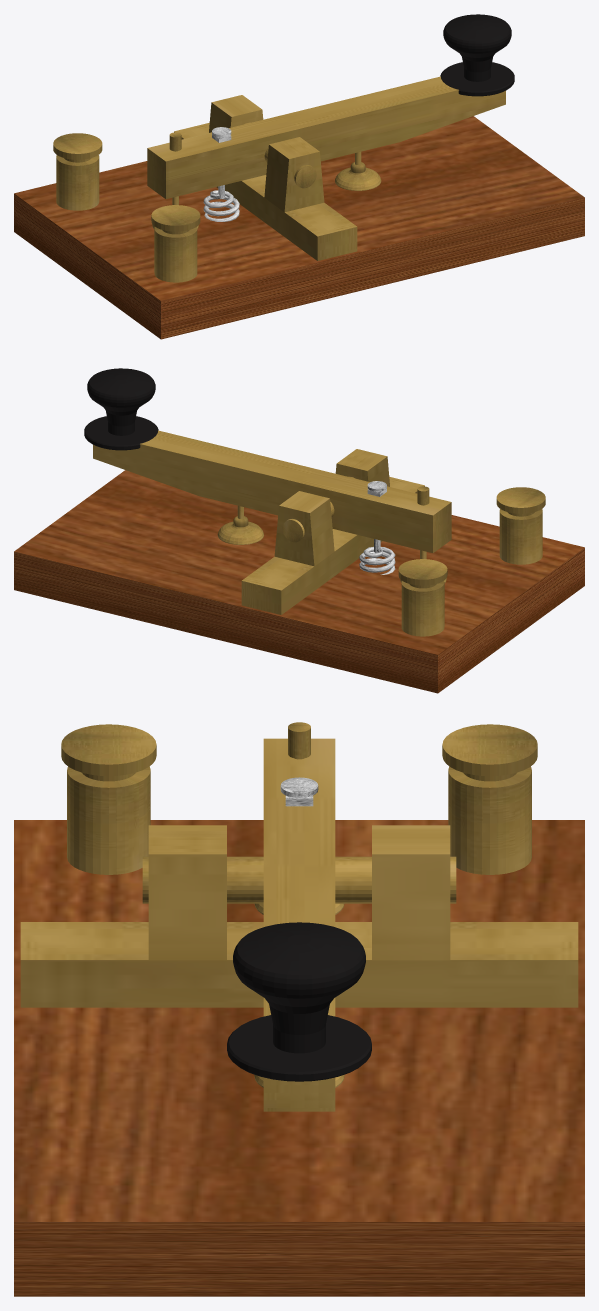
File: TelegraphKey3d.fbx
3 renders of one model, top to bottom at view 1: azimuth 30°, elevation 25°; view 2: azimuth 150°, elevation 25°; view 3: azimuth 270°, elevation 25°, orthographic. The views are drawn at different scales.
Visible parts, largest first — view 1: Cube, 立方体.001, 立方体, 円柱.006, 円柱.008, 円柱.007, 円柱.004, 円, 円柱; view 2: Cube, 立方体.001, 立方体, 円柱.006, 円柱.008, 円柱.007, 円柱.004, 円, 円柱; view 3: Cube, 立方体, 円柱.006, 立方体.001, 円柱.008, 円柱.007, 円柱, 円柱.001.
Part boxes in pixels (bbox=[...]): Cube: bbox=[14, 116, 584, 339]; 立方体.001: bbox=[147, 76, 505, 198]; 立方体: bbox=[174, 95, 357, 260]; 円柱.006: bbox=[53, 133, 200, 282]; 円柱.008: bbox=[443, 14, 511, 81]; 円柱.007: bbox=[440, 62, 514, 96]; 円柱.004: bbox=[335, 162, 381, 190]; 円: bbox=[203, 190, 239, 221]; 円柱: bbox=[244, 122, 316, 188]; Cube: bbox=[14, 470, 584, 693]; 立方体.001: bbox=[93, 430, 451, 552]; 立方体: bbox=[241, 449, 424, 614]; 円柱.006: bbox=[398, 487, 545, 636]; 円柱.008: bbox=[87, 368, 155, 435]; 円柱.007: bbox=[84, 416, 158, 450]; 円柱.004: bbox=[217, 516, 263, 544]; 円: bbox=[359, 546, 395, 574]; 円柱: bbox=[282, 476, 354, 542]; Cube: bbox=[14, 820, 584, 1296]; 立方体: bbox=[20, 825, 578, 1007]; 円柱.006: bbox=[61, 724, 537, 874]; 立方体.001: bbox=[263, 738, 335, 1111]; 円柱.008: bbox=[233, 922, 365, 1053]; 円柱.007: bbox=[227, 1015, 371, 1081]; 円柱: bbox=[142, 856, 456, 903]; 円柱.001: bbox=[288, 722, 310, 759].
Size of the model in its own units: 13.11 by 4.94 by 7.87.
4 materials, 4 textured.
